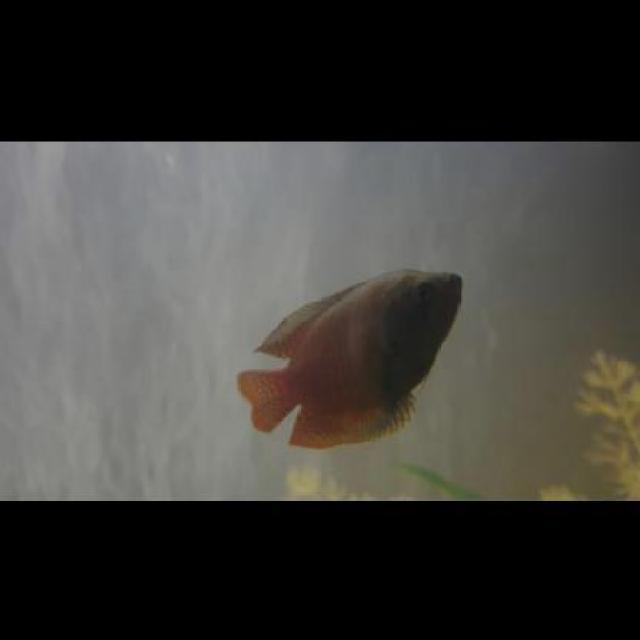Gourami: (234, 262, 468, 449)
